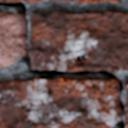brick: (30, 11, 127, 72), (0, 77, 117, 127), (0, 11, 21, 66), (124, 82, 127, 127), (72, 0, 118, 2), (0, 0, 19, 1), (24, 0, 40, 1)
crack: (0, 0, 125, 127), (63, 11, 109, 21)
